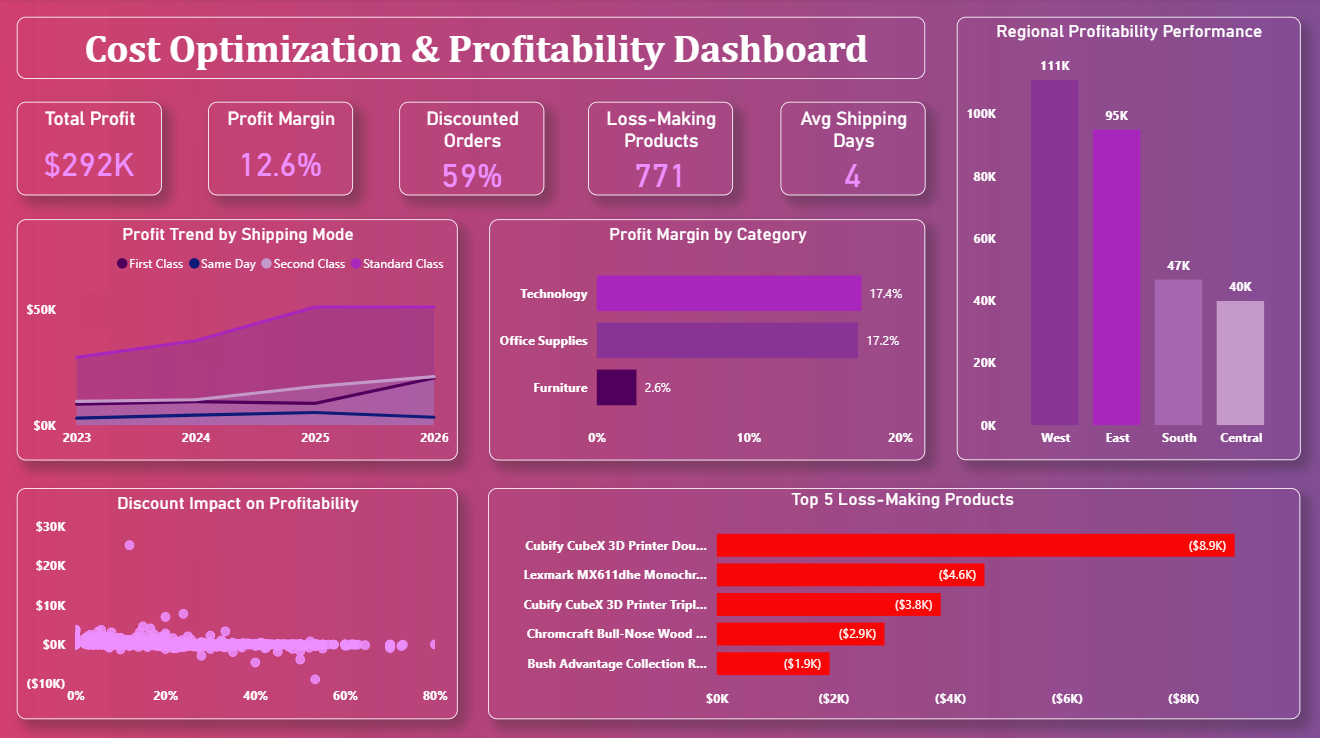

The dashboard page shown, as its layout file describes it:
{"tool":"powerbi","page":{"name":"Cost Optimization","canvas":[1280,720],"ordinal":1},"visuals":[{"type":"card","title":"Discounted Orders","fields":{"Values":["All Measures.Discounted Orders %"]},"box":[387.3,100.1,139.9,90.5],"z":0},{"type":"card","title":"Total Profit","fields":{"Values":["All Measures.Total Profit"]},"box":[18.1,100.1,140,90],"z":1000},{"type":"card","title":"Avg Shipping Days","fields":{"Values":["All Measures.Avg Shipping Days"]},"box":[755.2,100.1,139.9,90.5],"z":2000},{"type":"card","title":"Loss-Making Products","fields":{"Values":["All Measures.Loss Products"]},"box":[569.4,100.1,139.9,90.5],"z":3000},{"type":"card","title":"Profit Margin","fields":{"Values":["All Measures.Profit Margin"]},"box":[202.7,100.1,139.9,90.5],"z":4000},{"type":"textbox","box":[18.1,18.1,877.1,60.3],"z":5000},{"type":"scatterChart","title":"Discount Impact on Profitability","fields":{"Y":["All Measures.Total Profit"],"X":["Avg(retail_cleaned_data.discount)"],"Category":["retail_cleaned_data.product_name"]},"box":[18.1,472.6,425.9,223.2],"z":6000},{"type":"barChart","title":"Top 5 Loss-Making Products","fields":{"Category":["retail_cleaned_data.product_name"],"Y":["All Measures.Total Profit"]},"box":[472.9,472.6,784.2,223.2],"z":7000},{"type":"clusteredBarChart","title":"Profit Margin by Category","fields":{"Category":["retail_cleaned_data.category"],"Y":["All Measures.Category Margin %"]},"box":[474.1,213.5,421,232.8],"z":8000},{"type":"columnChart","title":"Regional Profitability Performance","fields":{"Category":["retail_cleaned_data.region"],"Y":["Sum(retail_cleaned_data.profit)"]},"box":[925.3,18.1,331.8,428.3],"z":9000},{"type":"areaChart","title":"Profit Trend by Shipping Mode","fields":{"Series":["retail_cleaned_data.ship_mode"],"Category":["retail_cleaned_data.order_date.Variation.Date Hierarchy.Year"],"Y":["All Measures.Total Profit"]},"box":[18.1,213.5,425.9,232.8],"z":10000}]}

Visuals, with their boxes in screenshot pixels (x1, y1, x2, y2), scaled from the page's 1280x720 canvas onto the 1320x738 screenshot:
"Discounted Orders" card: (left=399, top=103, right=544, bottom=195)
"Total Profit" card: (left=19, top=103, right=163, bottom=195)
"Avg Shipping Days" card: (left=779, top=103, right=923, bottom=195)
"Loss-Making Products" card: (left=587, top=103, right=731, bottom=195)
"Profit Margin" card: (left=209, top=103, right=353, bottom=195)
textbox: (left=19, top=19, right=923, bottom=80)
"Discount Impact on Profitability" scatterChart: (left=19, top=484, right=458, bottom=713)
"Top 5 Loss-Making Products" barChart: (left=488, top=484, right=1296, bottom=713)
"Profit Margin by Category" clusteredBarChart: (left=489, top=219, right=923, bottom=457)
"Regional Profitability Performance" columnChart: (left=954, top=19, right=1296, bottom=458)
"Profit Trend by Shipping Mode" areaChart: (left=19, top=219, right=458, bottom=457)
